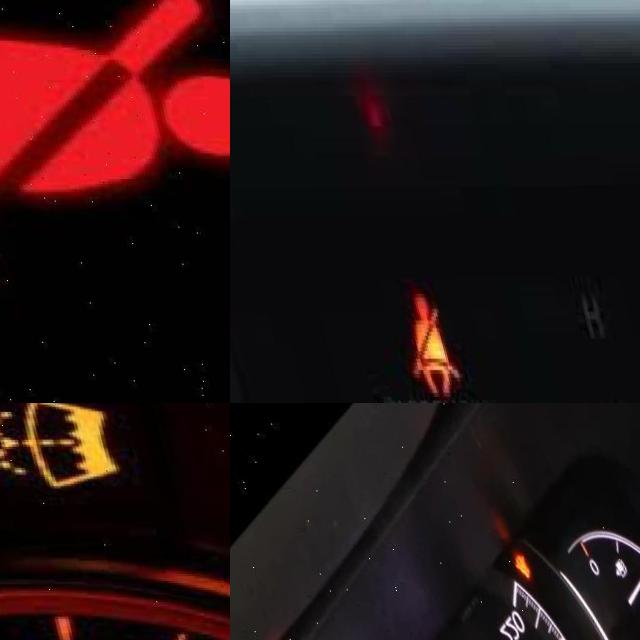Seat Belt: (0, 0, 230, 309), (378, 296, 446, 397)
Washer Fluid: (0, 403, 105, 491)
